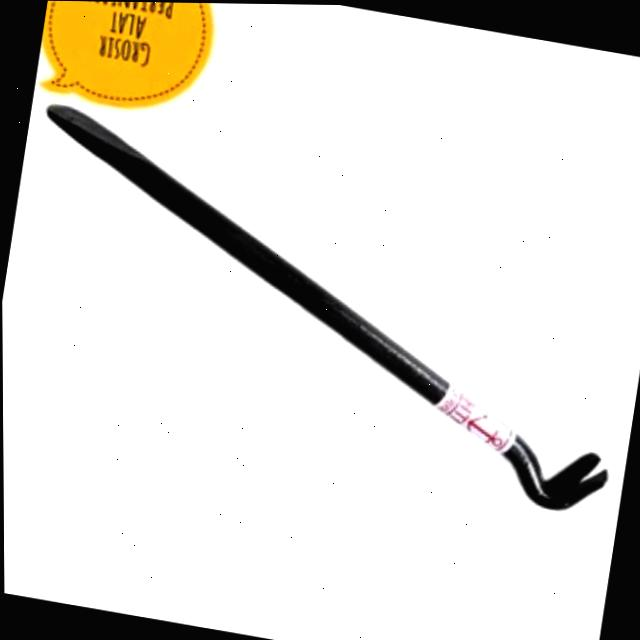crow bar: (37, 97, 610, 516)
